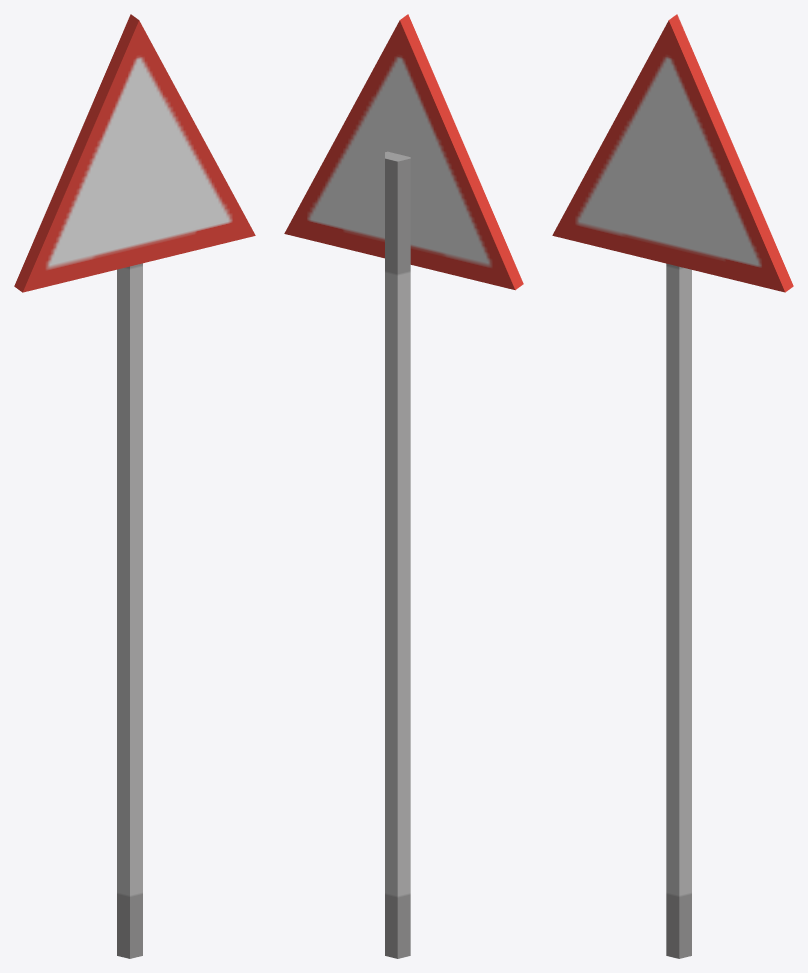
The model's file is city_sign_01.fbx.
The picture shows the model from 3 angles, left to right: view 1: azimuth 30°, elevation 25°; view 2: azimuth 150°, elevation 25°; view 3: azimuth 330°, elevation 25°; orthographic projection.
Parts seen in each view (by area): view 1: city:polySurface313; view 2: city:polySurface313; view 3: city:polySurface313.
Boxes of the visible parts, <box> form: city:polySurface313: <box>14,14,255,958</box>; city:polySurface313: <box>284,14,523,958</box>; city:polySurface313: <box>552,14,793,958</box>.
Bounding box in the file's own units: 0.654 × 2.52 × 0.0793.
